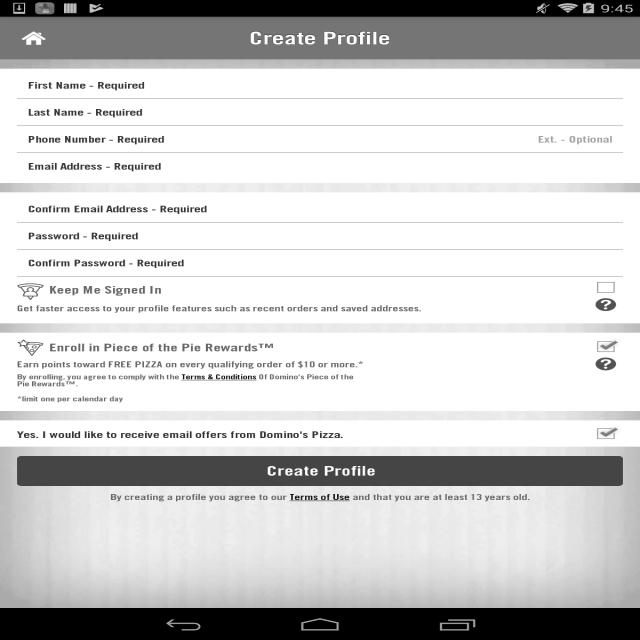Button: (17, 456, 623, 486)
CheckBox: (589, 277, 623, 298), (589, 336, 623, 357), (589, 424, 623, 443)
EditText: (17, 72, 623, 99), (17, 99, 623, 126), (17, 153, 623, 180), (17, 196, 623, 222), (17, 223, 623, 249), (17, 250, 623, 276), (17, 126, 527, 153), (527, 126, 623, 153)
ImageButton: (0, 17, 64, 59)
ImageView: (17, 283, 44, 300), (17, 339, 44, 356), (595, 357, 617, 371), (595, 298, 617, 311)
TextView: (17, 429, 589, 448), (49, 284, 589, 296), (17, 373, 364, 391), (17, 492, 623, 502), (17, 304, 589, 314), (17, 360, 364, 370), (249, 27, 390, 49), (49, 341, 275, 354), (17, 395, 123, 406)
